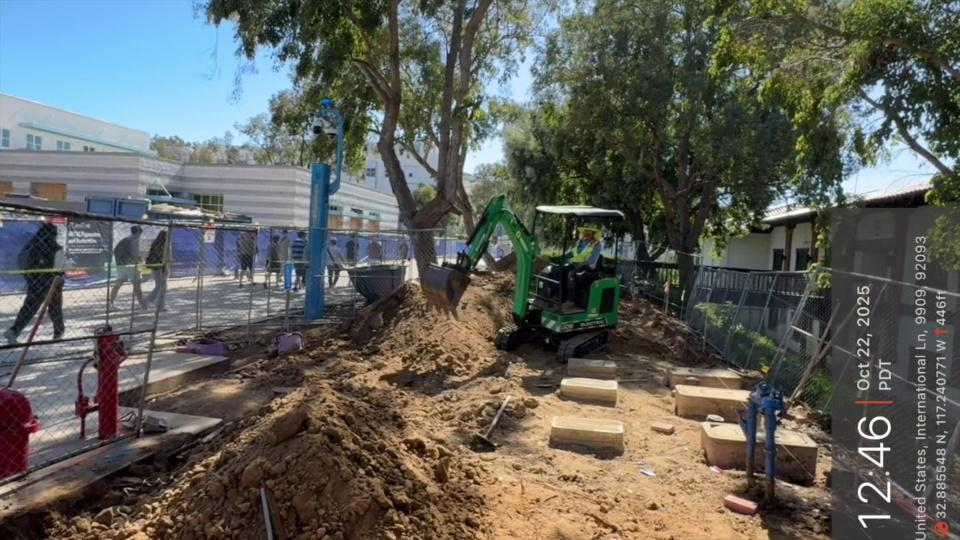Exacavator: (418, 193, 626, 363)
